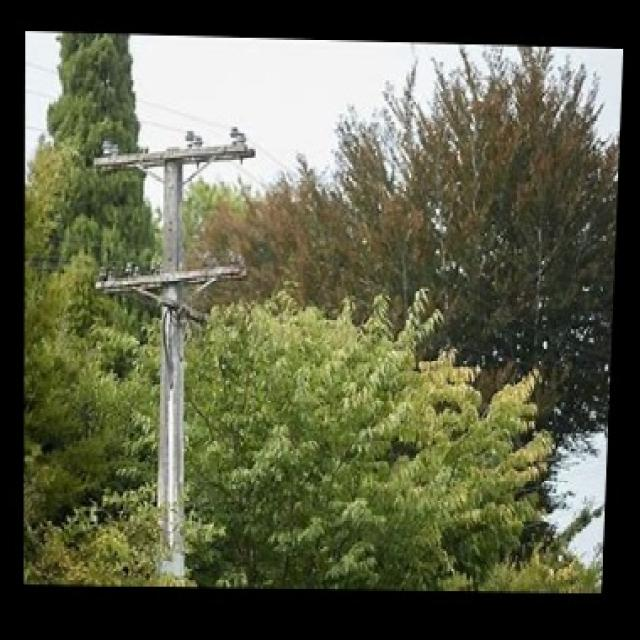utility poles: (79, 116, 260, 586)
